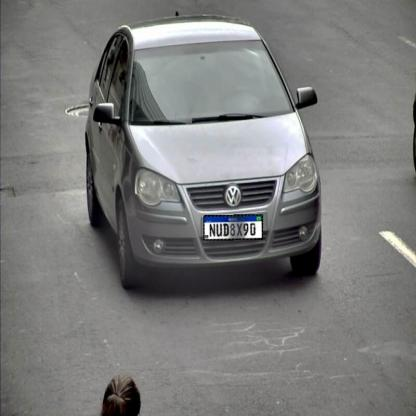PlacaM: (203, 214, 263, 241)
